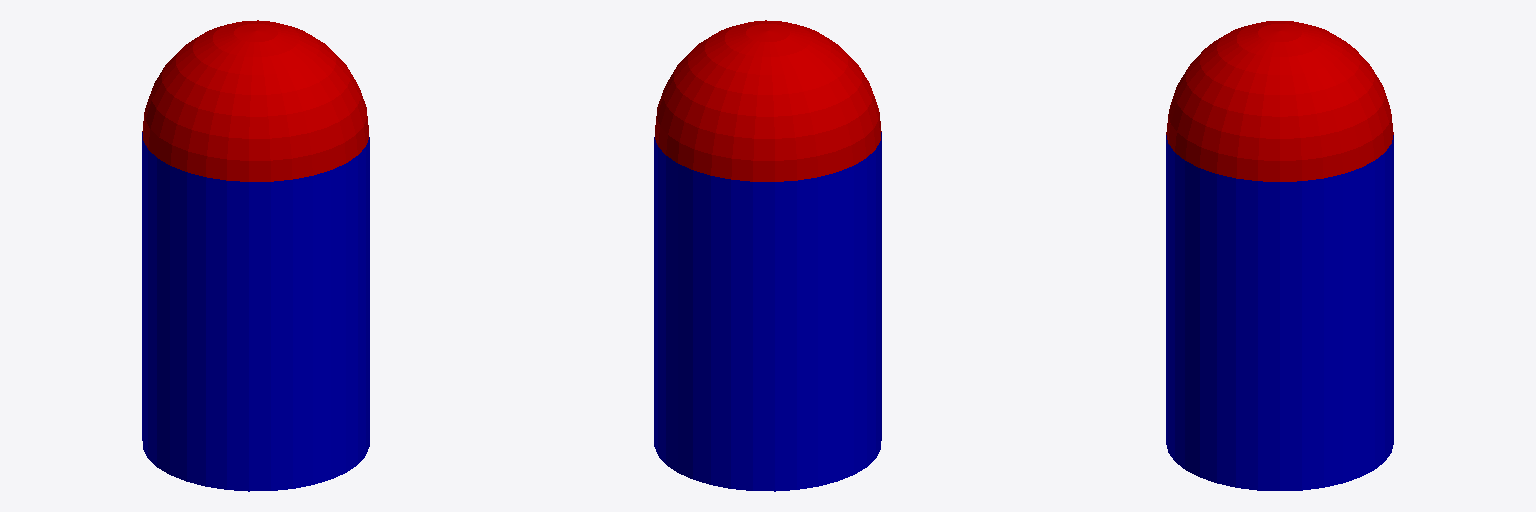
The robot description file, URDF, robot "sample_robot":
<?xml version="1.0"?>
<robot name="sample_robot">

  <material name="blue">
    <color rgba="0 0 0.8 1"/>
  </material>
  <material name="red">
    <color rgba="0.8 0 0 1"/>
  </material>

  <link name="base_link">
    <visual>
      <geometry>
        <cylinder length="0.6" radius="0.2"/>
      </geometry>
      <material name="blue"/>
    </visual>
  </link>

  <link name="head">
    <visual>
      <geometry>
        <sphere radius="0.2"/>
      </geometry>
      <material name="red"/>
    </visual>
  </link>

  <joint name="base_to_head" type="fixed">
    <parent link="base_link"/>
    <child link="head"/>
    <origin xyz="0 0 0.3"/>
  </joint>

</robot>

--- Render facts (derived) ---
The picture shows the robot from 3 angles, left to right: view 1: azimuth 30°, elevation 25°; view 2: azimuth 150°, elevation 25°; view 3: azimuth 270°, elevation 25°; orthographic projection.
Model sample_robot with 2 links and 1 joints (1 fixed), rooted at base_link, posed all joints at 0.
Links seen in each view (by area): view 1: base_link, head; view 2: base_link, head; view 3: base_link, head.
Link boxes in pixels (x1,y1,x2,y2): base_link: [142, 132, 369, 491]; head: [142, 20, 368, 181]; base_link: [654, 132, 881, 491]; head: [655, 20, 881, 181]; base_link: [1166, 135, 1393, 490]; head: [1166, 21, 1393, 181].
Bounding box of the posed robot: 0.4 × 0.4 × 0.8 m (x, y, z).
Geometry: primitives only (box / cylinder / sphere), no mesh files.